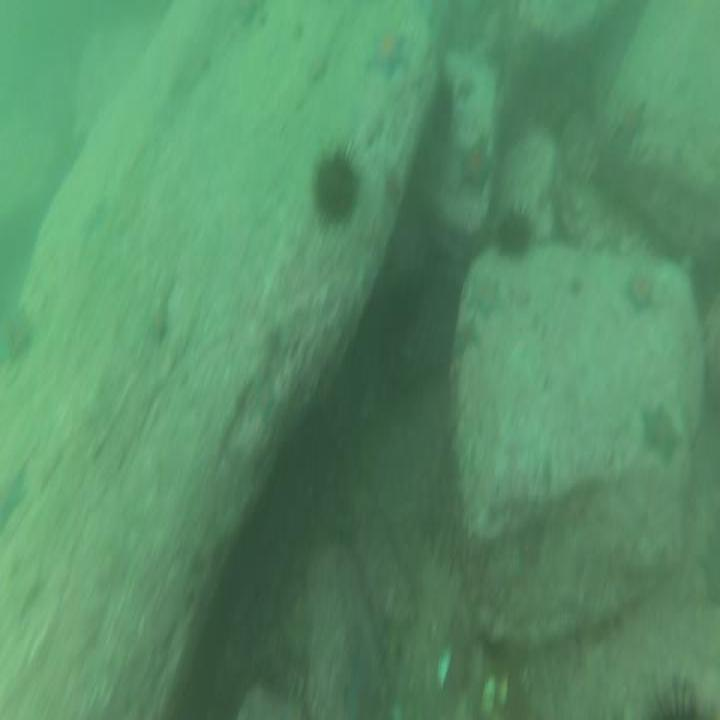echinus: (308, 139, 365, 234), (639, 668, 720, 720), (495, 196, 536, 266), (429, 71, 457, 132)
starfish: (360, 16, 411, 84), (639, 398, 684, 475), (453, 128, 499, 203), (0, 453, 31, 539), (511, 508, 549, 576), (695, 526, 720, 617), (465, 270, 504, 327), (623, 261, 659, 315), (447, 314, 481, 369)
